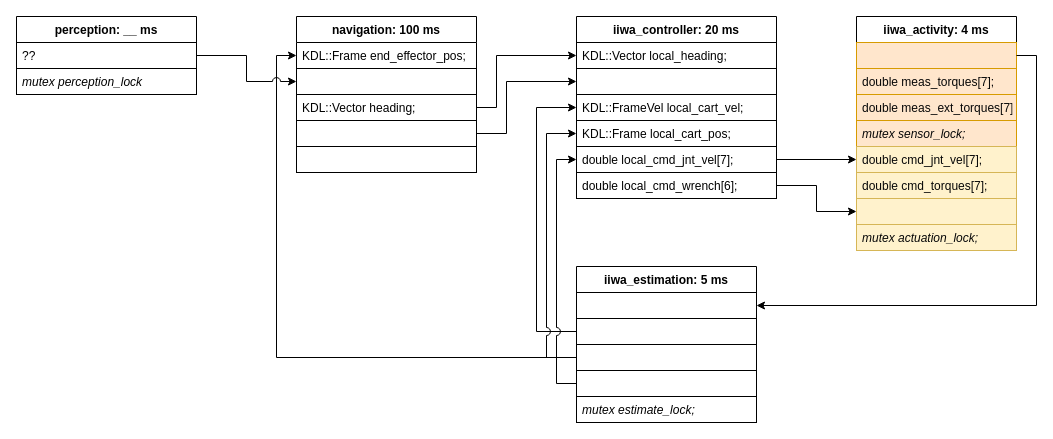
This 1053x439 diagram has some shape labels left out. The centre of each missing label's shape, as x and y in pixels:
"double cmd_wrench[6];" goes at (936,211).
"double estimated_jnt_vel[7];" goes at (666,383).
"double local_meas_jnt_pos[7];" goes at (666,305).
"double local_velocity_magnitude;" goes at (676,81).
"double meas_jnt_pos[7];" goes at (936,55).
"double velocity_magnitude;" goes at (386,133).
"KDL::Frame cart_pos;" goes at (666,357).
"KDL::FrameVel cart_vel;" goes at (666,331).
"KDL::Vector set_pos;" goes at (386,81).
"mutex navigation_lock" goes at (386,159).
